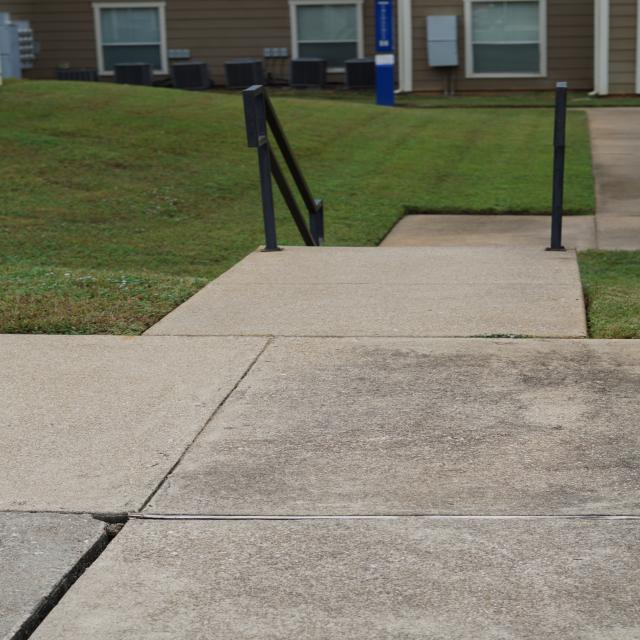Obstacle: (263, 91, 324, 245), (243, 85, 278, 251), (269, 146, 315, 246), (546, 83, 567, 251), (291, 168, 324, 246), (278, 140, 291, 167)
Sidewalk: (142, 337, 638, 516), (30, 516, 639, 640), (0, 335, 268, 514), (145, 247, 585, 338), (0, 513, 122, 640), (585, 108, 640, 249), (380, 215, 550, 250), (563, 216, 596, 249)
